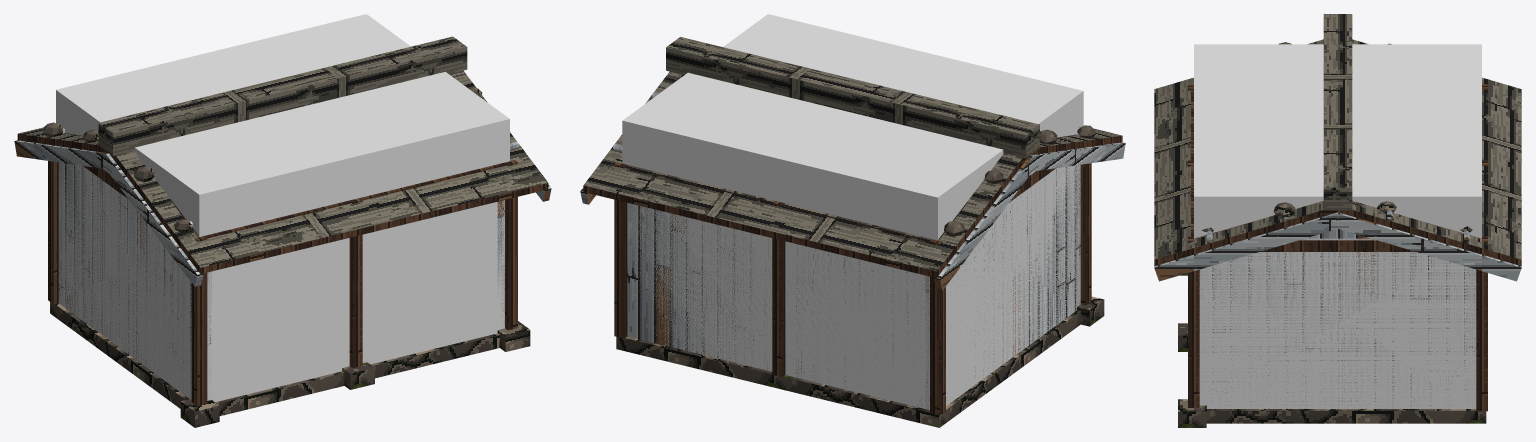
The model's file is JP_Poor_NetShed_A.glb.
3 renders of one model, left to right at view 1: azimuth 30°, elevation 25°; view 2: azimuth 150°, elevation 25°; view 3: azimuth 270°, elevation 25°, orthographic.
Parts seen in each view (by area): view 1: COL_JP_Poor_NetShed_A, JP_Poor_NetShed_A; view 2: COL_JP_Poor_NetShed_A, JP_Poor_NetShed_A; view 3: COL_JP_Poor_NetShed_A, JP_Poor_NetShed_A.
Part boxes in pixels (left/top/right/bottom): COL_JP_Poor_NetShed_A: left=56, top=14, right=509, bottom=402; JP_Poor_NetShed_A: left=14, top=36, right=551, bottom=427; COL_JP_Poor_NetShed_A: left=622, top=14, right=1083, bottom=410; JP_Poor_NetShed_A: left=580, top=37, right=1125, bottom=427; COL_JP_Poor_NetShed_A: left=1194, top=44, right=1481, bottom=408; JP_Poor_NetShed_A: left=1154, top=14, right=1521, bottom=427.
Size of the model in its own units: 5.7 by 3.75 by 5.1.
6 materials, 6 textured.
